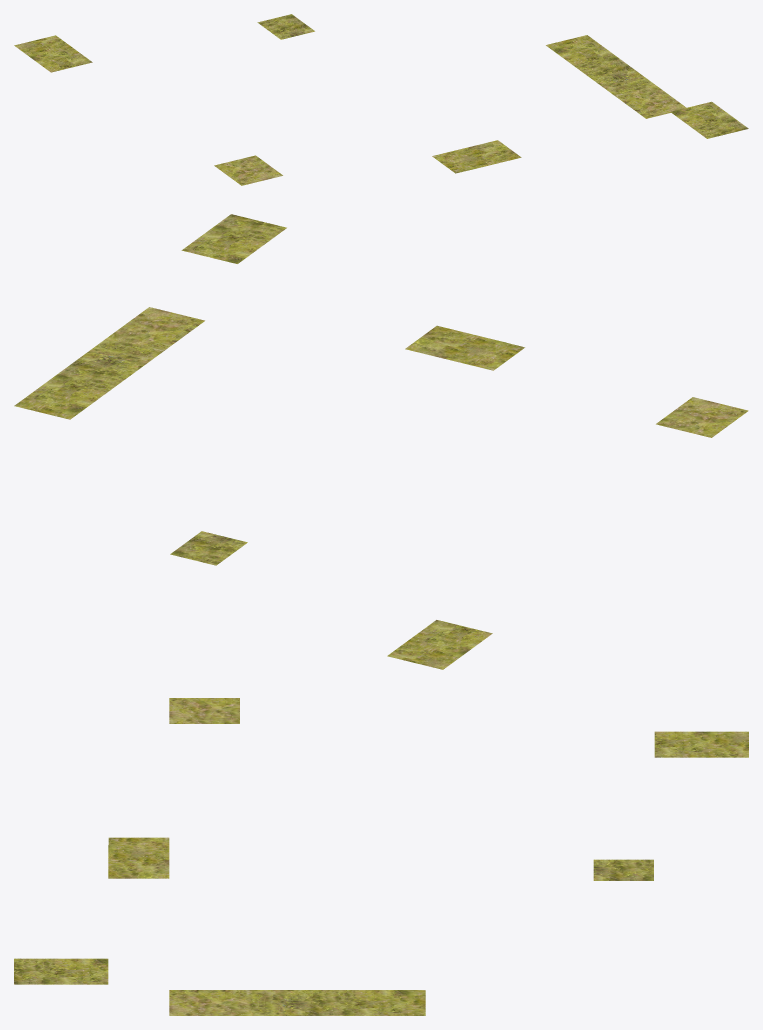
File: SM_NeoLD_15_Toles_00.fbx
3 renders of one model, top to bottom at view 1: azimuth 30°, elevation 25°; view 2: azimuth 150°, elevation 25°; view 3: azimuth 270°, elevation 25°, orthographic. The views are drawn at different scales.
Visible parts, largest first — view 1: SM_NeoLD_15_Toles_00; view 2: SM_NeoLD_15_Toles_00; view 3: SM_NeoLD_15_Toles_00.
Boxes of the visible parts, box(x1,y1,x2,y2) form: SM_NeoLD_15_Toles_00: box(14, 14, 748, 185); SM_NeoLD_15_Toles_00: box(14, 214, 748, 669); SM_NeoLD_15_Toles_00: box(14, 698, 748, 1015).
Size of the model in its own units: 3613 by 245 by 4047.
